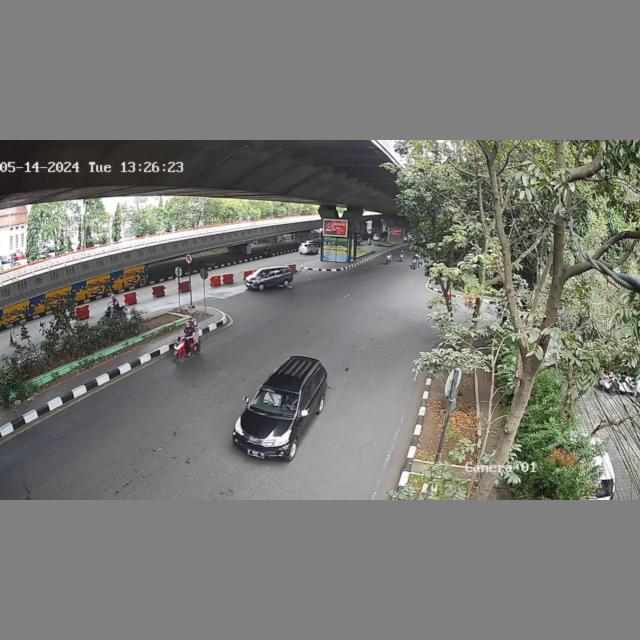windshield: (249, 384, 299, 416)
